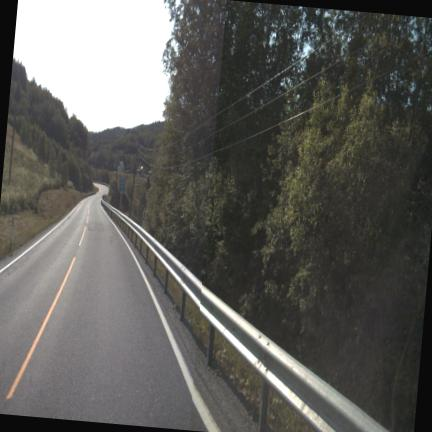Road: (0, 186, 204, 429)
